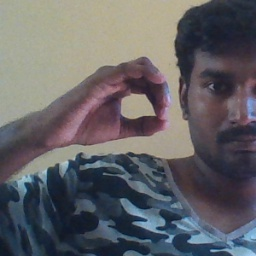O: (54, 53, 170, 149)
